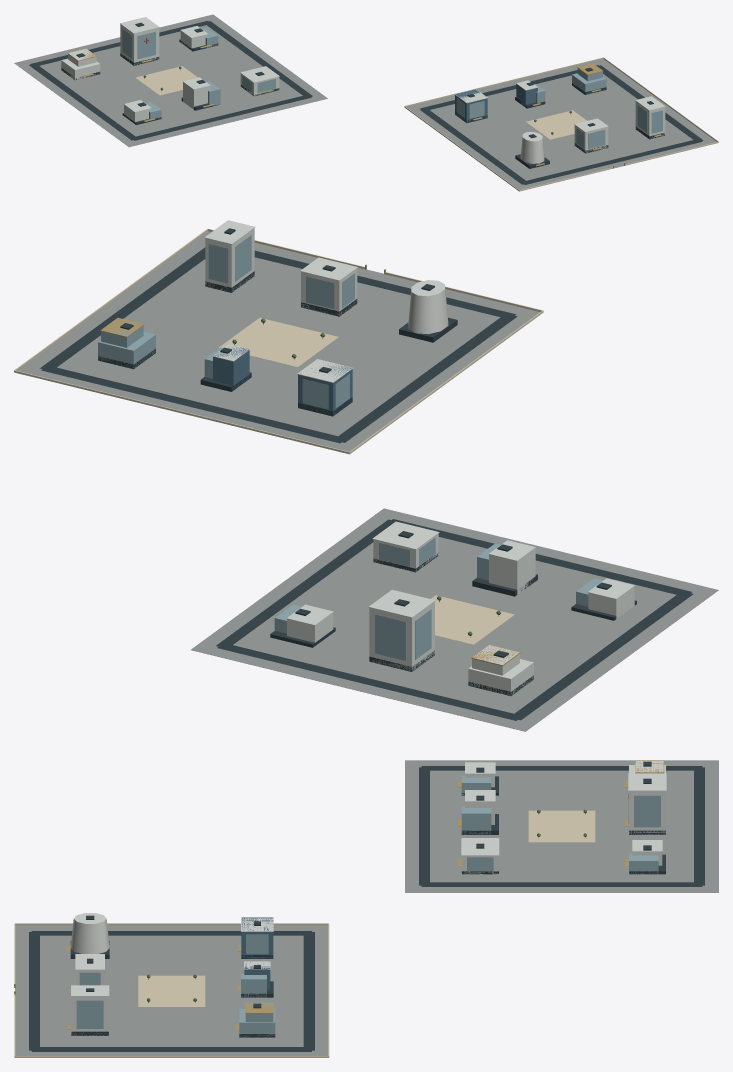
The model's file is GC-TILE-19-09.glb.
3 views of the same model, one above another, from view 1: azimuth 30°, elevation 25°; view 2: azimuth 150°, elevation 25°; view 3: azimuth 270°, elevation 25° (orthographic). The views are drawn at different scales.
Visible parts, largest first — view 1: GC-TILE-19-09-paving, GC-TILE-19-09-dark, GC-TILE-19-09-white, GC-TILE-19-09-glass, GC-TILE-19-09-ivory, GC-TILE-19-09-blue, GC-TILE-19-09-gold; view 2: GC-TILE-19-09-paving, GC-TILE-19-09-dark, GC-TILE-19-09-white, GC-TILE-19-09-glass, GC-TILE-19-09-ivory, GC-TILE-19-09-blue, GC-TILE-19-09-gold; view 3: GC-TILE-19-09-paving, GC-TILE-19-09-dark, GC-TILE-19-09-white, GC-TILE-19-09-ivory, GC-TILE-19-09-glass, GC-TILE-19-09-blue, GC-TILE-19-09-gold.
Part boxes in pixels (left/top/right/bottom): GC-TILE-19-09-paving: left=14, top=14, right=716, bottom=189; GC-TILE-19-09-dark: left=29, top=21, right=703, bottom=184; GC-TILE-19-09-white: left=61, top=17, right=665, bottom=163; GC-TILE-19-09-glass: left=122, top=28, right=662, bottom=148; GC-TILE-19-09-ivory: left=135, top=57, right=718, bottom=191; GC-TILE-19-09-blue: left=455, top=84, right=537, bottom=122; GC-TILE-19-09-gold: left=67, top=44, right=661, bottom=168; GC-TILE-19-09-paving: left=17, top=231, right=718, bottom=731; GC-TILE-19-09-dark: left=40, top=228, right=693, bottom=720; GC-TILE-19-09-white: left=204, top=220, right=634, bottom=695; GC-TILE-19-09-glass: left=98, top=235, right=603, bottom=660; GC-TILE-19-09-ivory: left=14, top=228, right=543, bottom=644; GC-TILE-19-09-blue: left=213, top=346, right=352, bottom=415; GC-TILE-19-09-gold: left=100, top=264, right=520, bottom=666; GC-TILE-19-09-paving: left=15, top=760, right=718, bottom=1055; GC-TILE-19-09-dark: left=29, top=761, right=704, bottom=1051; GC-TILE-19-09-white: left=70, top=760, right=666, bottom=1035; GC-TILE-19-09-ivory: left=14, top=810, right=595, bottom=1057; GC-TILE-19-09-glass: left=76, top=775, right=660, bottom=1037; GC-TILE-19-09-blue: left=241, top=917, right=273, bottom=989; GC-TILE-19-09-gold: left=14, top=760, right=664, bottom=1030.
Size of the model in its own units: 758 by 54.48 by 759.
